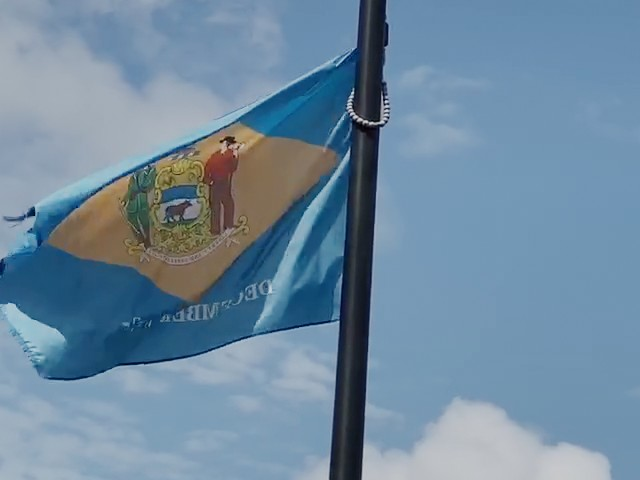Delaware flag: (2, 44, 357, 388)
